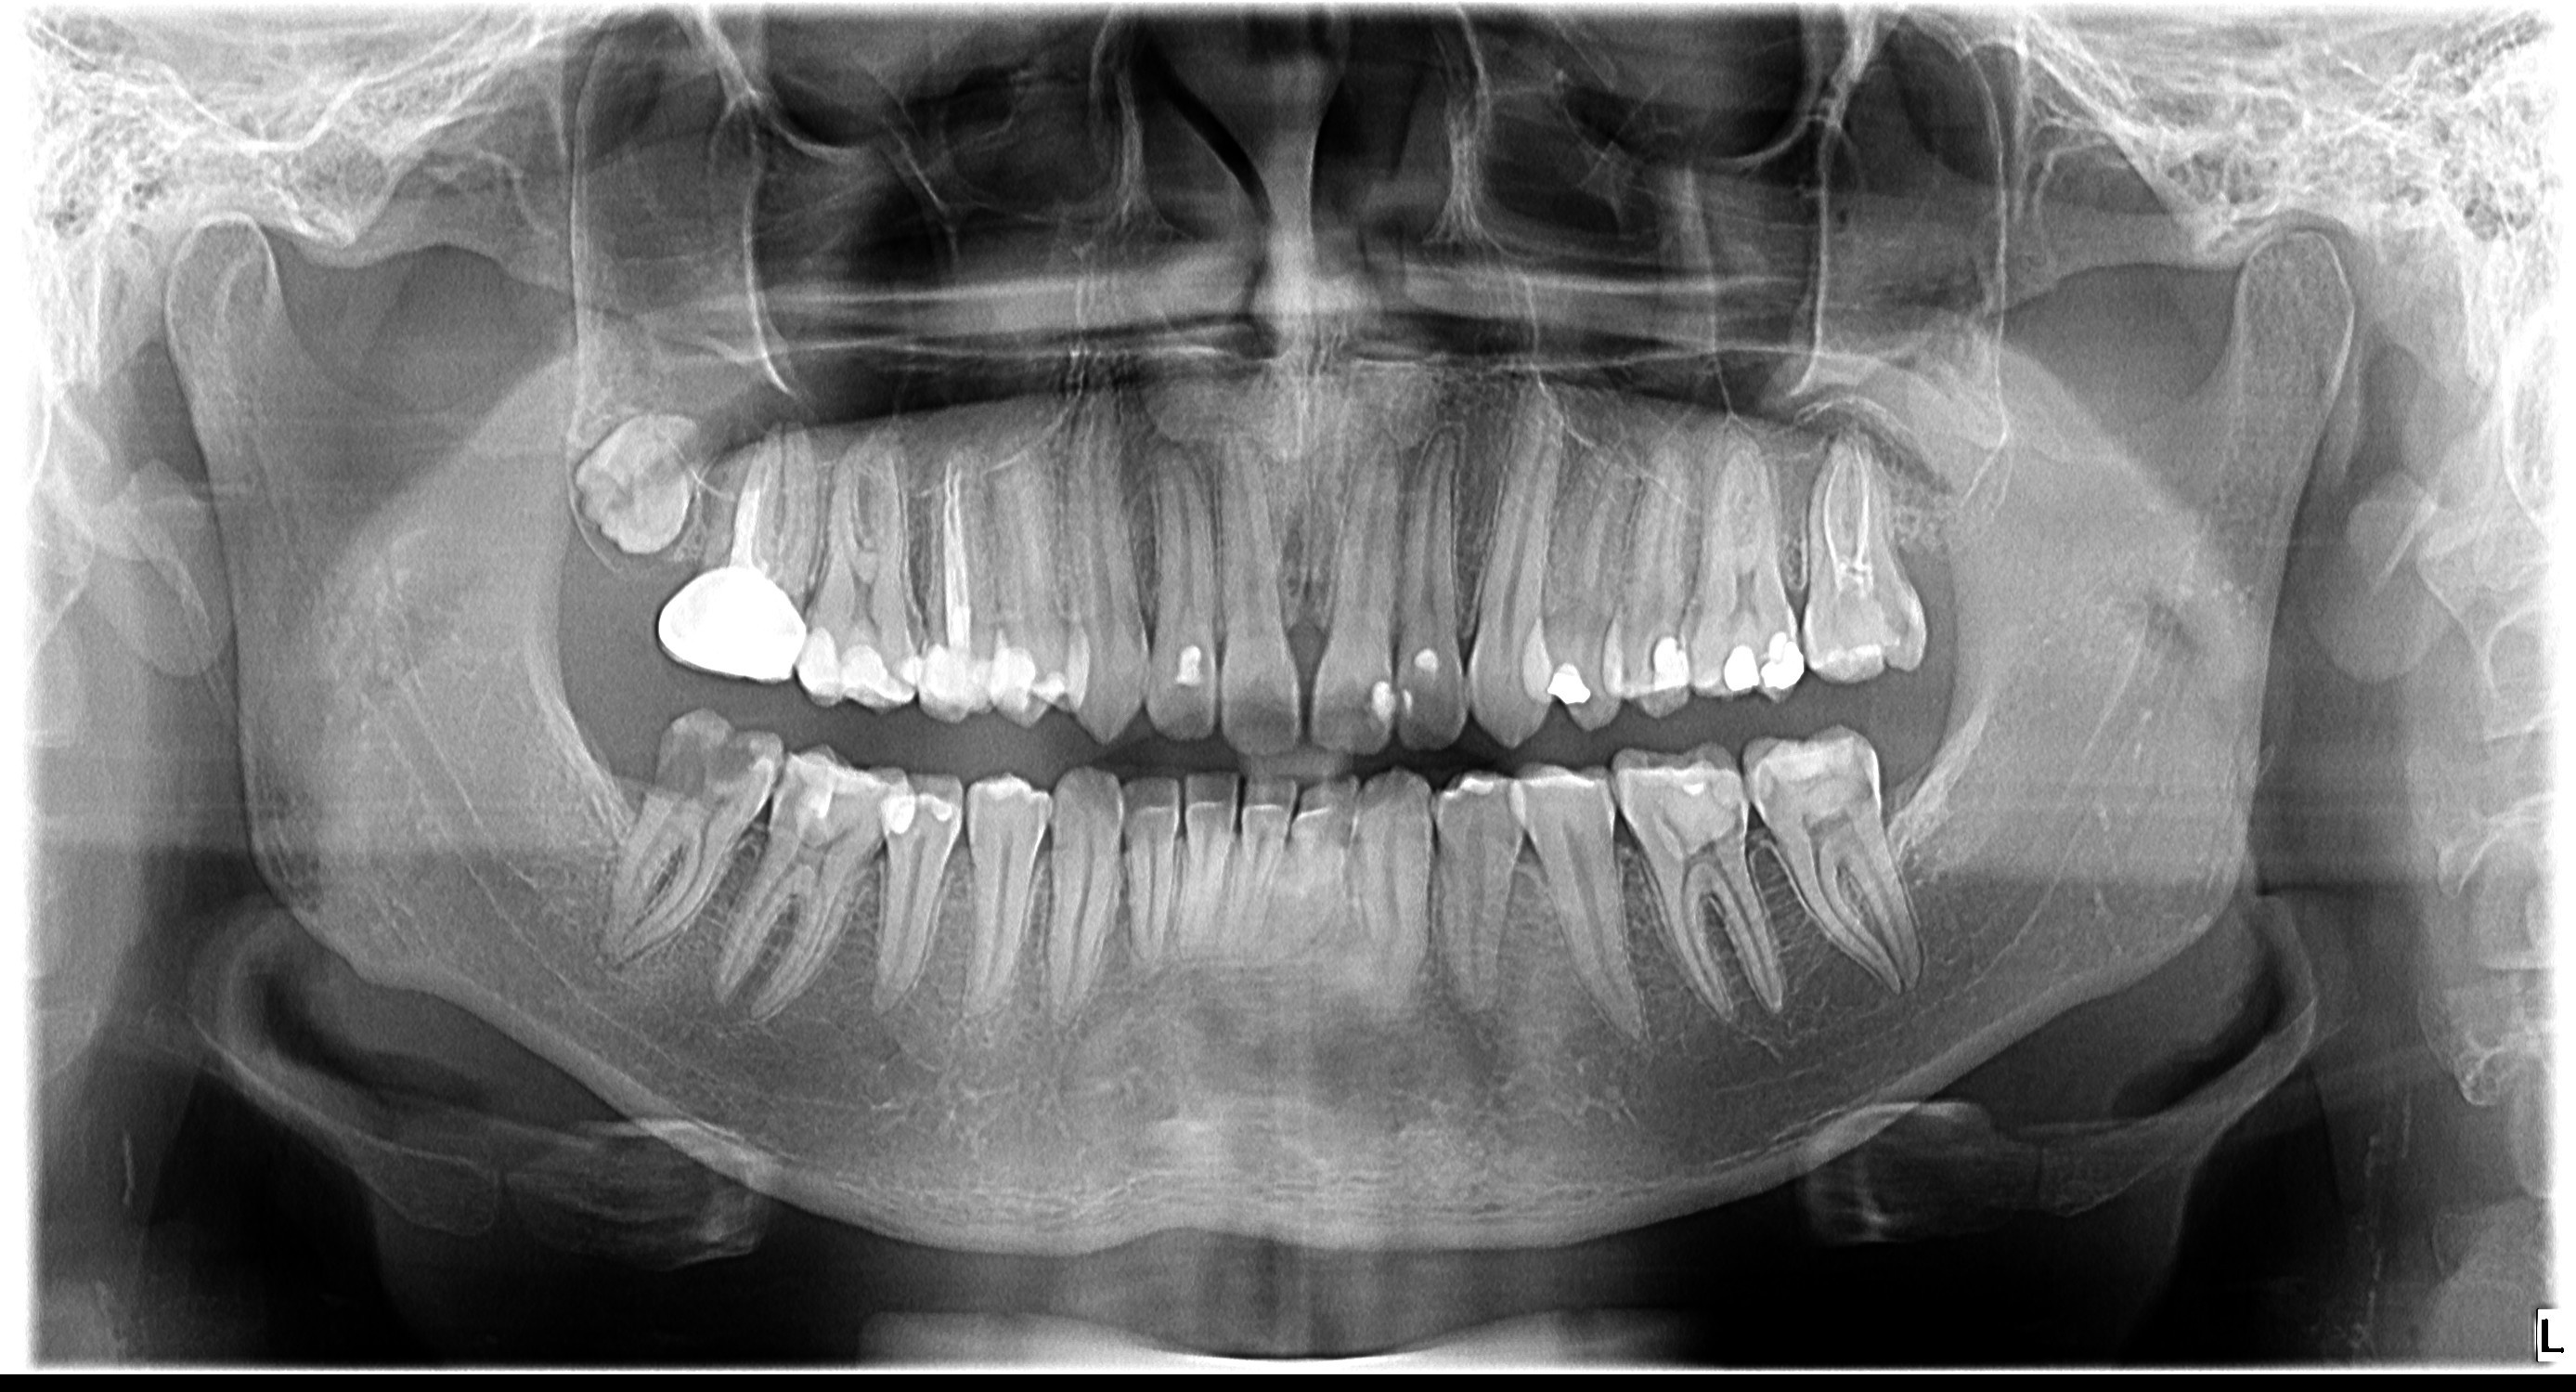CAR: (637, 705, 772, 818), (1874, 590, 1934, 677), (764, 761, 810, 850), (1840, 746, 1879, 813), (1737, 773, 1788, 811)
END: (916, 444, 985, 638), (1805, 430, 1887, 581), (713, 470, 790, 579)
IMT: (563, 408, 723, 573)
OBT: (791, 612, 916, 720), (916, 629, 1004, 722), (790, 749, 889, 825), (1757, 727, 1863, 790), (1822, 581, 1889, 677), (987, 629, 1055, 717), (1750, 626, 1819, 703), (1637, 631, 1706, 705), (1634, 749, 1725, 799), (1711, 626, 1764, 698), (1540, 657, 1600, 718), (913, 780, 964, 833), (1353, 670, 1399, 727), (1173, 641, 1211, 694), (879, 795, 913, 850), (1406, 636, 1447, 679), (1396, 684, 1423, 727)
PRR: (642, 562, 829, 694)
